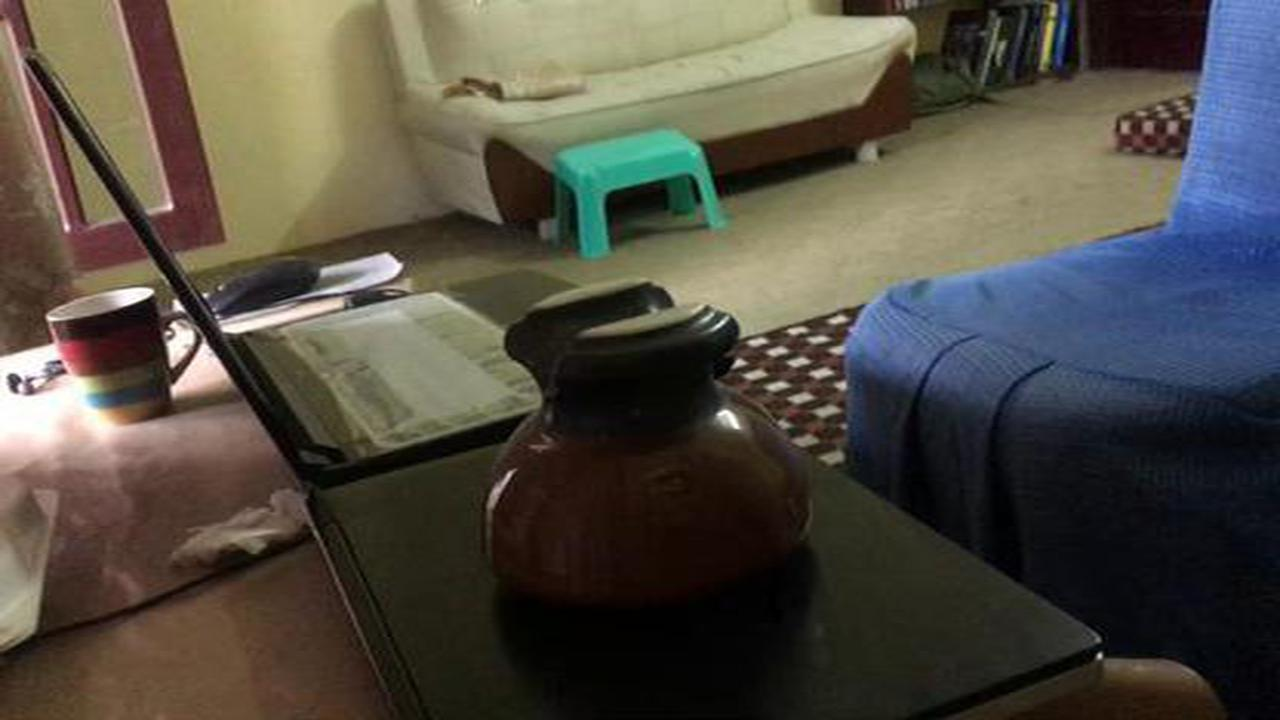insulator_pin: (456, 263, 837, 637)
